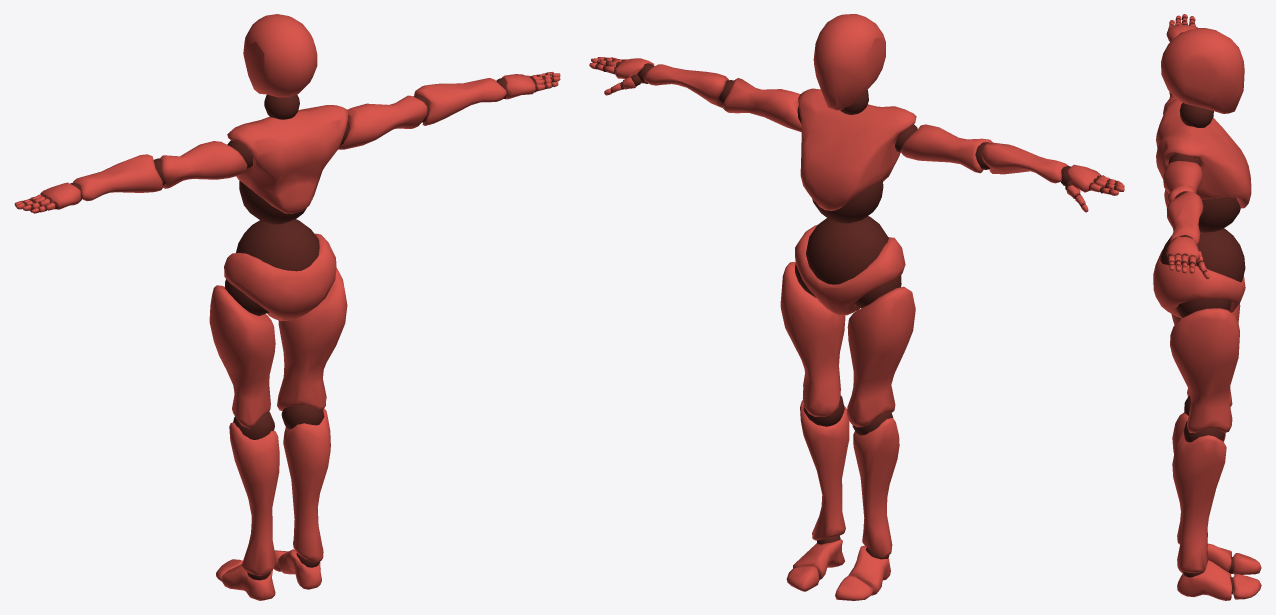
Rendered from OBJ_XBot.obj.
3 renders of one model, left to right at view 1: azimuth 30°, elevation 25°; view 2: azimuth 150°, elevation 25°; view 3: azimuth 270°, elevation 25°, orthographic. The views are drawn at different scales.
Parts seen in each view (by area): view 1: Beta_Joints; view 2: Beta_Joints; view 3: Beta_Joints.
Part boxes in pixels (x1=…): Beta_Joints: x1=14, y1=14, x2=560, y2=600; Beta_Joints: x1=589, y1=14, x2=1124, y2=600; Beta_Joints: x1=1153, y1=14, x2=1261, y2=600.
Size of the model in its own units: 12.92 by 12.95 by 2.3.
